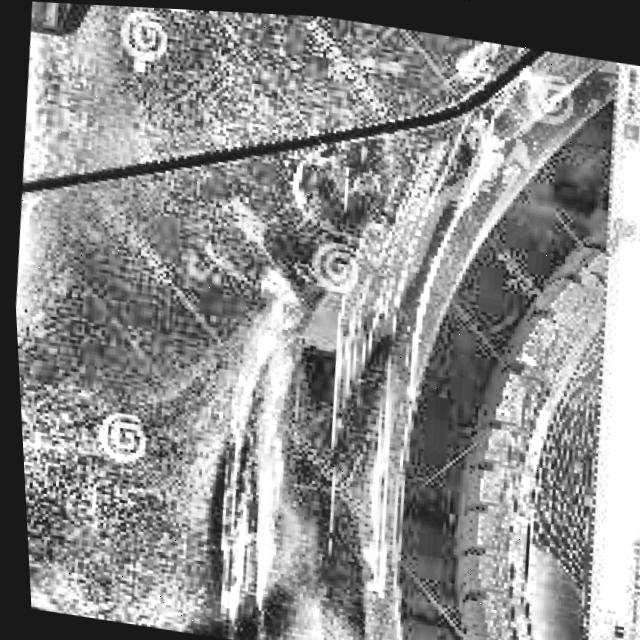door_dent: (190, 265, 435, 640), (10, 187, 285, 483)
door_scratch: (192, 97, 493, 638)
